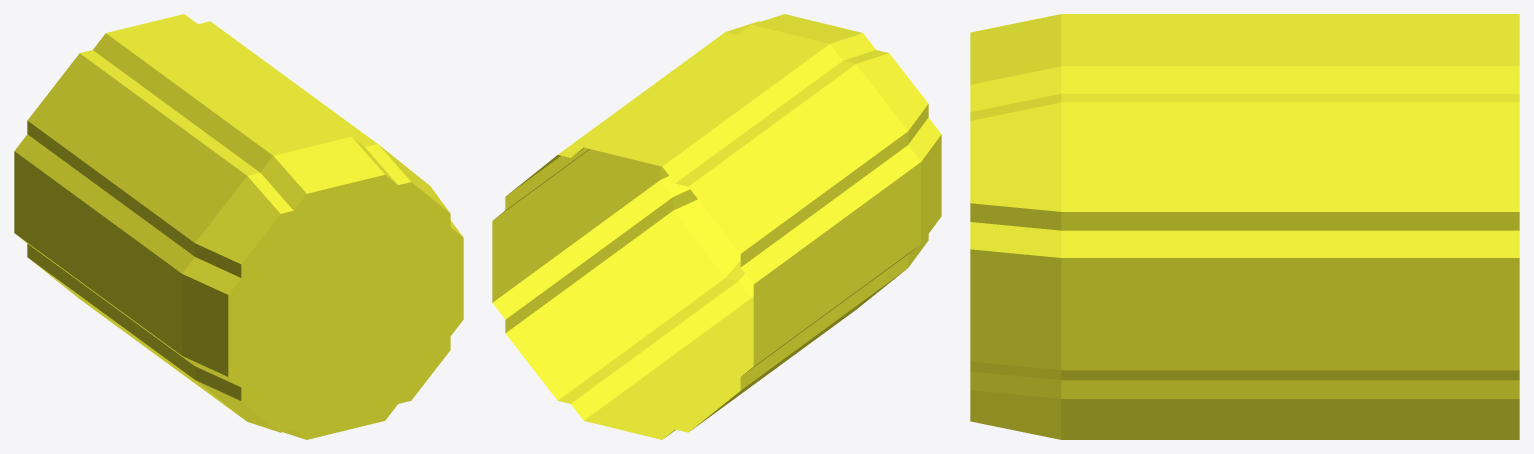
Rendered from SketchVolumeViewer_smallerercircle_smallerercircle_1_1_0000.obj.
3 views of the same model, side by side, from view 1: azimuth 30°, elevation 25°; view 2: azimuth 150°, elevation 25°; view 3: azimuth 270°, elevation 25° (orthographic). The views are drawn at different scales.
Visible parts, largest first — view 1: smallerercircle; view 2: smallerercircle; view 3: smallerercircle.
Part boxes in pixels (x1=…): smallerercircle: x1=14, y1=14, x2=463, y2=439; smallerercircle: x1=492, y1=14, x2=941, y2=439; smallerercircle: x1=970, y1=14, x2=1519, y2=439.
Bounding box in the file's own units: 270 × 270 × 360.
